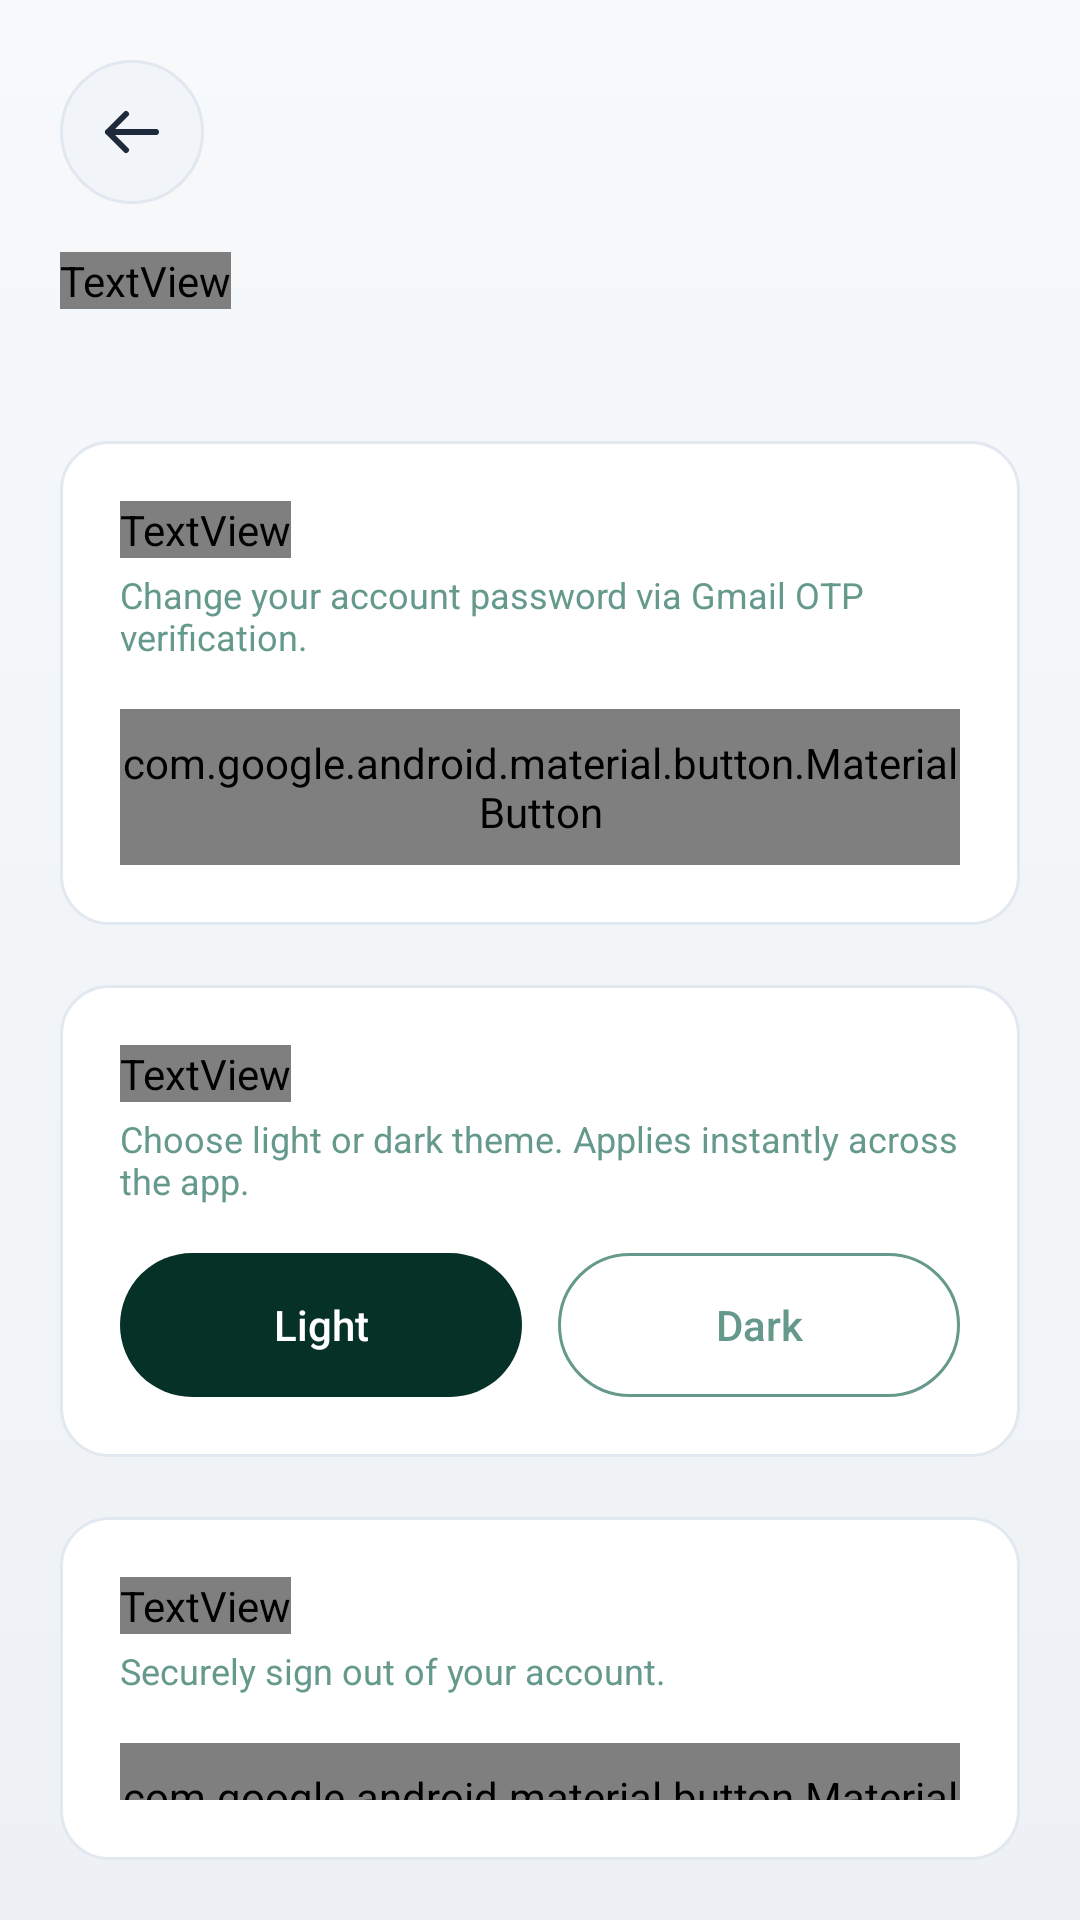

Icons on this 1080px×1920px Android screen, each with the point to tap as (x=x, y=y):
Back: (x=132, y=132)
